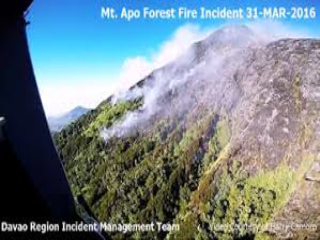smoke: (99, 61, 201, 136)
